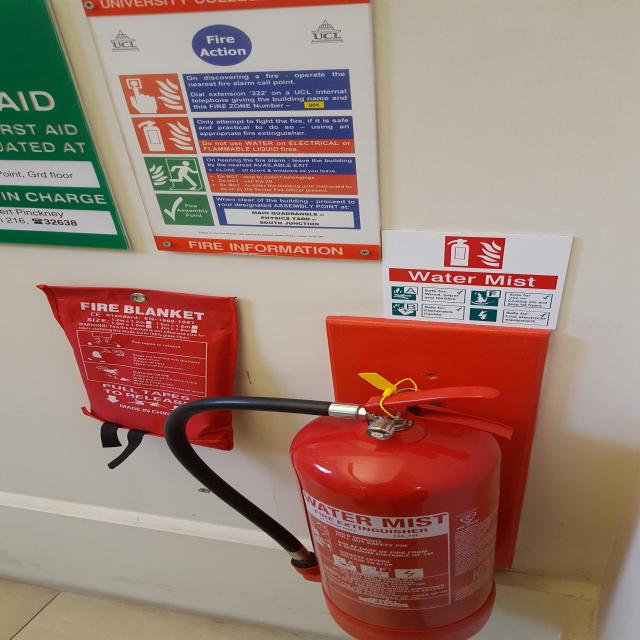fire_extinguisher: (155, 376, 521, 640)
